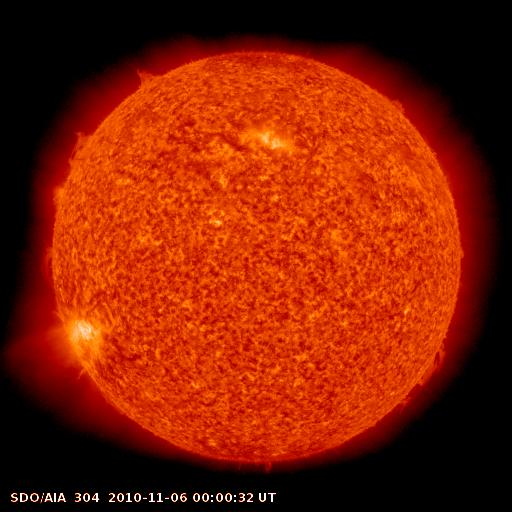prominence: (392, 332, 458, 414), (31, 236, 75, 292), (116, 52, 167, 98), (61, 117, 100, 171), (377, 86, 414, 127), (41, 173, 76, 215)
